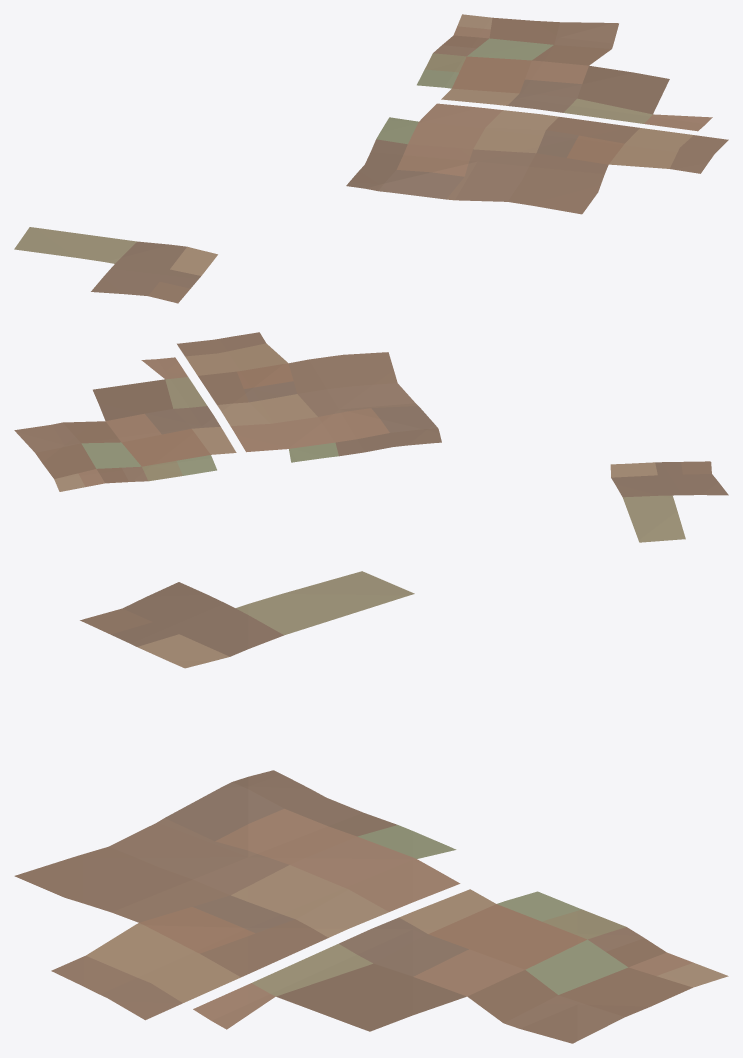
Rendered from farm_-36_-29_soil.glb.
3 renders of one model, top to bottom at view 1: azimuth 30°, elevation 25°; view 2: azimuth 150°, elevation 25°; view 3: azimuth 270°, elevation 25°, orthographic. The views are drawn at different scales.
Visible parts, largest first — view 1: geometry_0; view 2: geometry_0; view 3: geometry_0.
Boxes of the visible parts, box(x1,y1,x2,y2) form: geometry_0: box(14, 14, 728, 303); geometry_0: box(14, 332, 728, 542); geometry_0: box(14, 571, 728, 1043).
Size of the model in its own units: 558 by 11.64 by 347.
